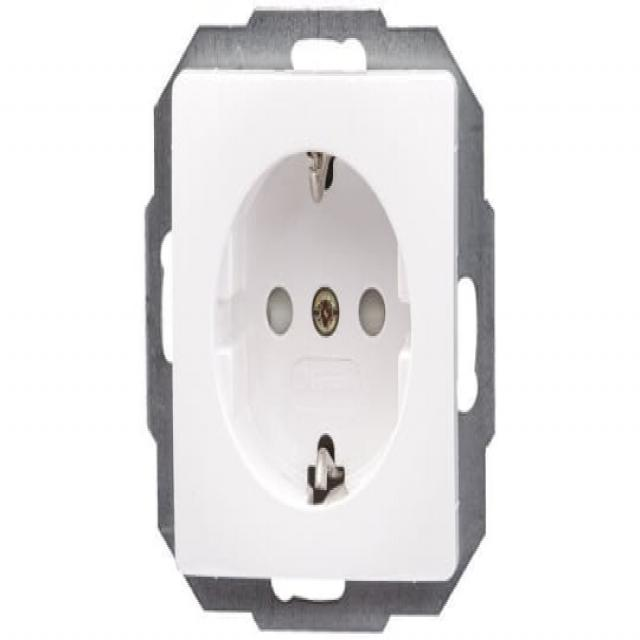typeb: (162, 58, 474, 617)
